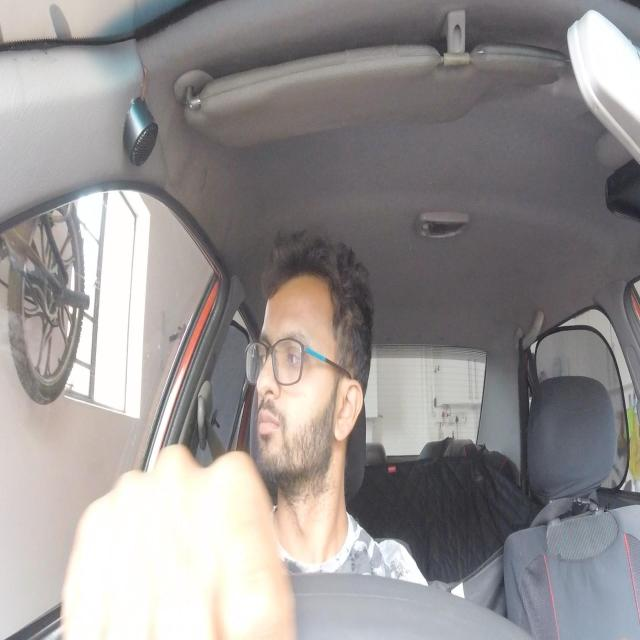open: (277, 324, 310, 374), (253, 325, 273, 372)
